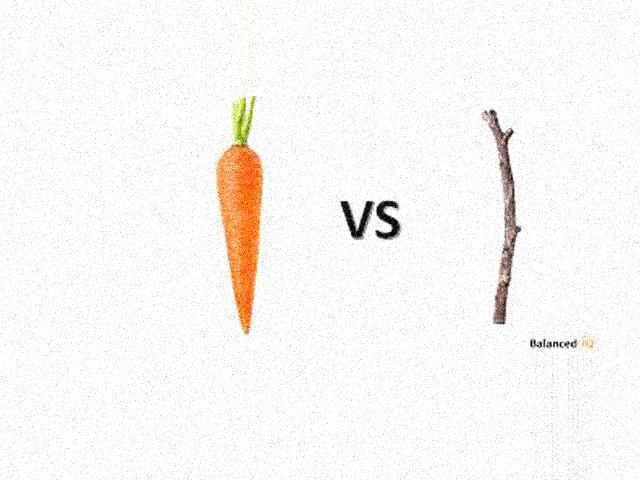carrot: (207, 140, 276, 340)
